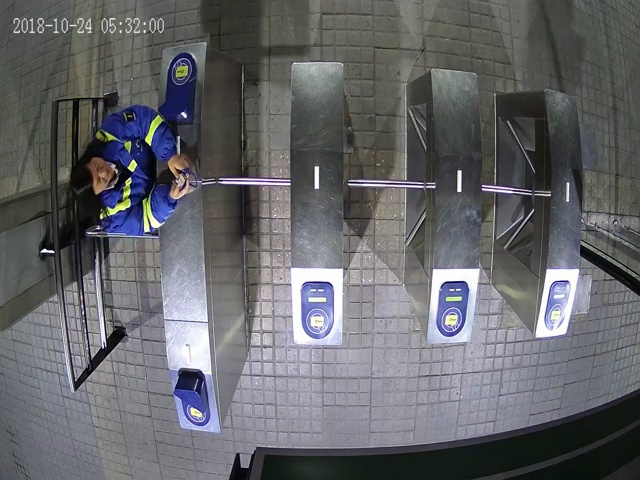Chaleco_azul: (69, 105, 197, 236)
